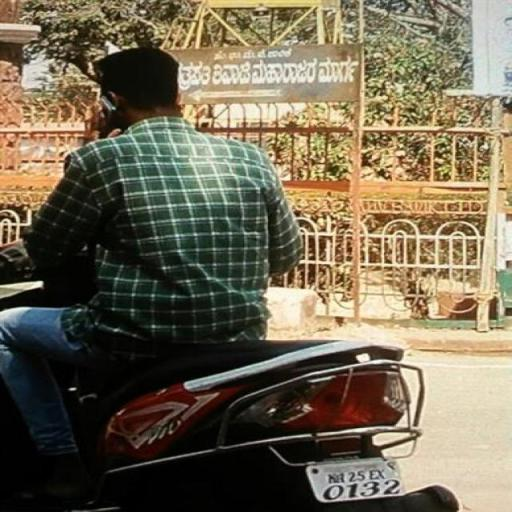numberplate: (307, 449, 414, 507)
using mobile: (87, 95, 124, 139)
